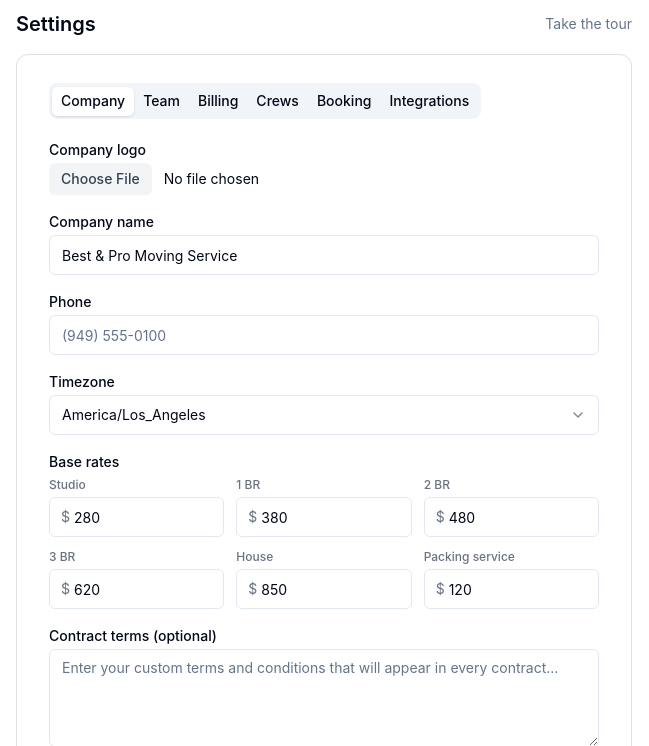
Test case: SettingsPage › AC3 — team tab shows team members after click
Click the tab "Team".
click(162, 101)  # box 134,86 -> 189,116
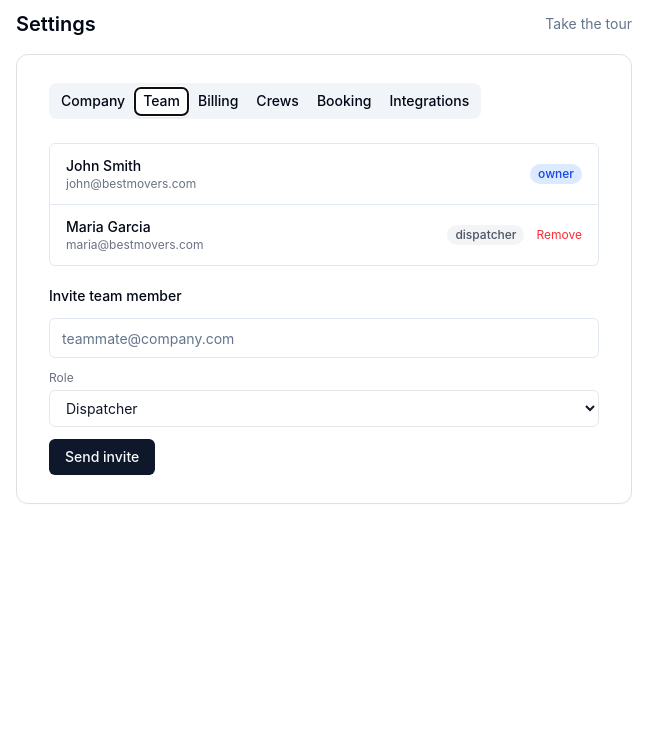
expect the text "John Smith" is shown: met, box 66,157 -> 141,174
expect the text "Maria Garcia" is shown: met, box 66,218 -> 151,235
